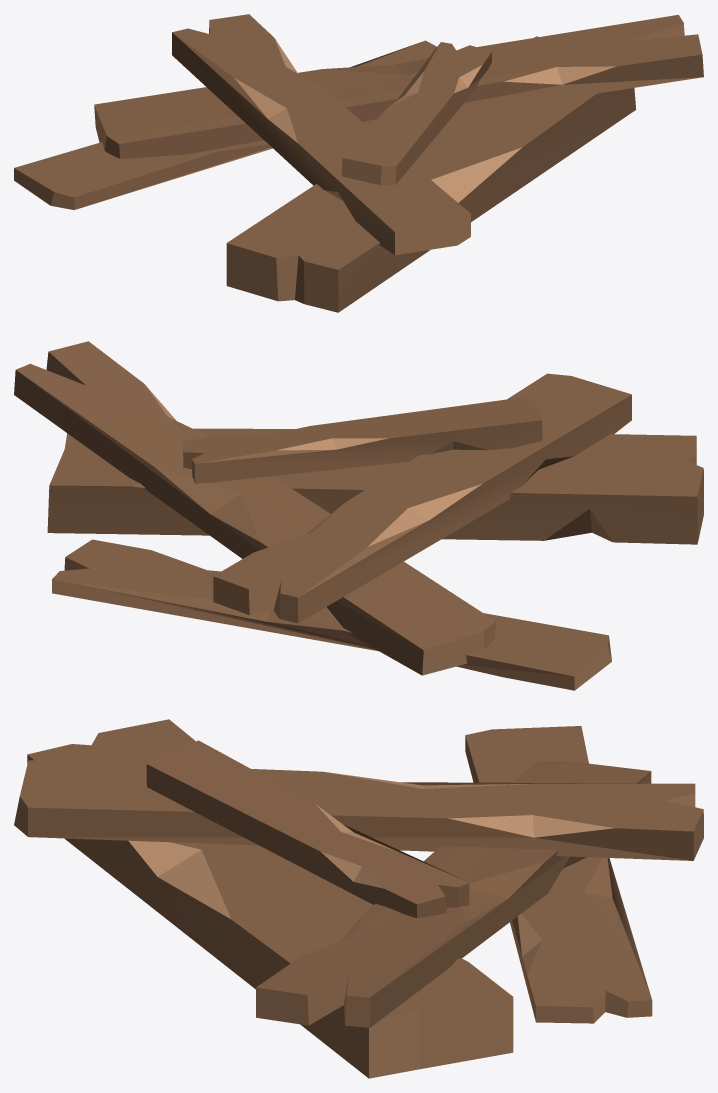
File: bonfire_fenche_4.fbx
The picture shows the model from 3 angles, top to bottom: view 1: azimuth 30°, elevation 25°; view 2: azimuth 150°, elevation 25°; view 3: azimuth 270°, elevation 25°; orthographic projection. The views are drawn at different scales.
Parts seen in each view (by area): view 1: bonfire_fenche_4; view 2: bonfire_fenche_4; view 3: bonfire_fenche_4.
Part boxes in pixels (left/top/right/bottom): bonfire_fenche_4: left=14, top=14, right=703, bottom=312; bonfire_fenche_4: left=14, top=341, right=703, bottom=690; bonfire_fenche_4: left=14, top=719, right=703, bottom=1078.
Size of the model in its own units: 124 by 17.94 by 99.07.
Materials: 1 (1 with a texture image).
